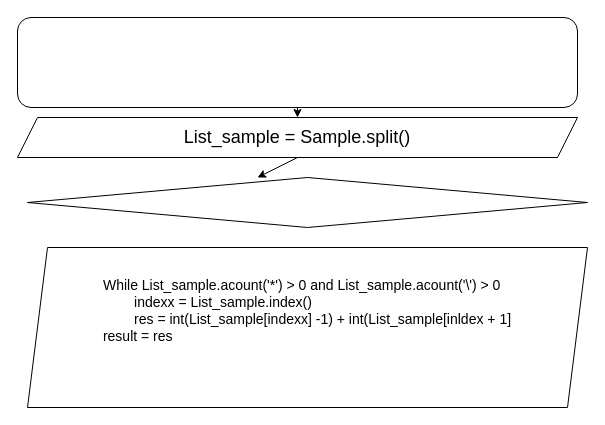
This 605x425 diagram has some shape labels left out. The centre of each missing label's shape, as x and y in pixels:
if List_sample .acount( '*' ) > 0 and List_sample .acount( '/' ) > 0 :: the point at 307,202
Sample = '1*16+10*2-3' res = 0 result = 0: the point at 297,62
